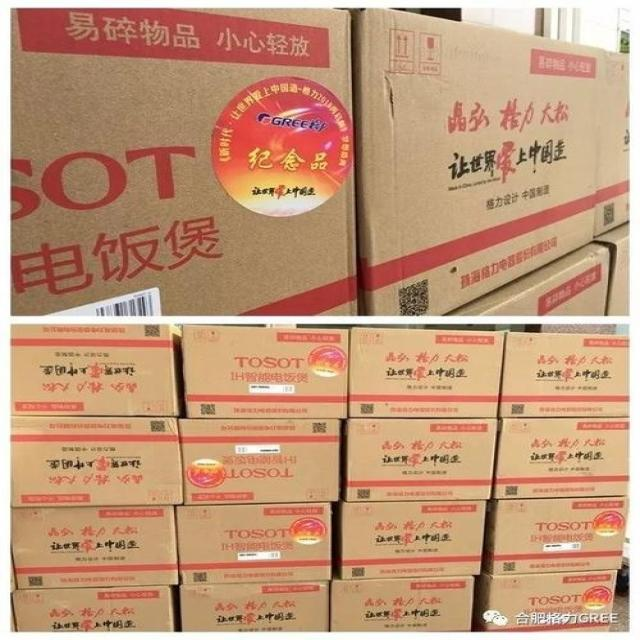box: (12, 9, 358, 315), (360, 5, 601, 317), (10, 324, 185, 416), (184, 326, 347, 419), (12, 418, 181, 506), (351, 326, 505, 418), (177, 419, 342, 504), (11, 505, 178, 587), (173, 504, 333, 586), (348, 418, 499, 502), (443, 241, 611, 315), (343, 501, 491, 580), (484, 496, 630, 575), (494, 418, 629, 500), (499, 333, 629, 417), (330, 574, 473, 632), (481, 570, 618, 630), (179, 581, 333, 630), (9, 586, 176, 631), (594, 51, 631, 239), (596, 223, 629, 315)
